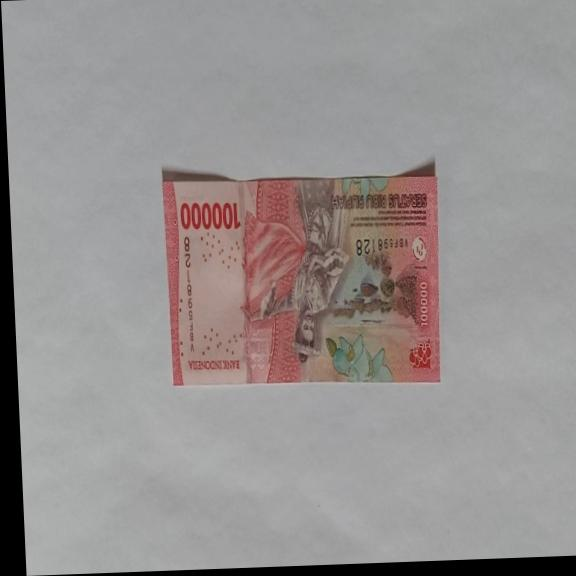Kertas: (160, 164, 446, 393), (179, 198, 241, 234)
